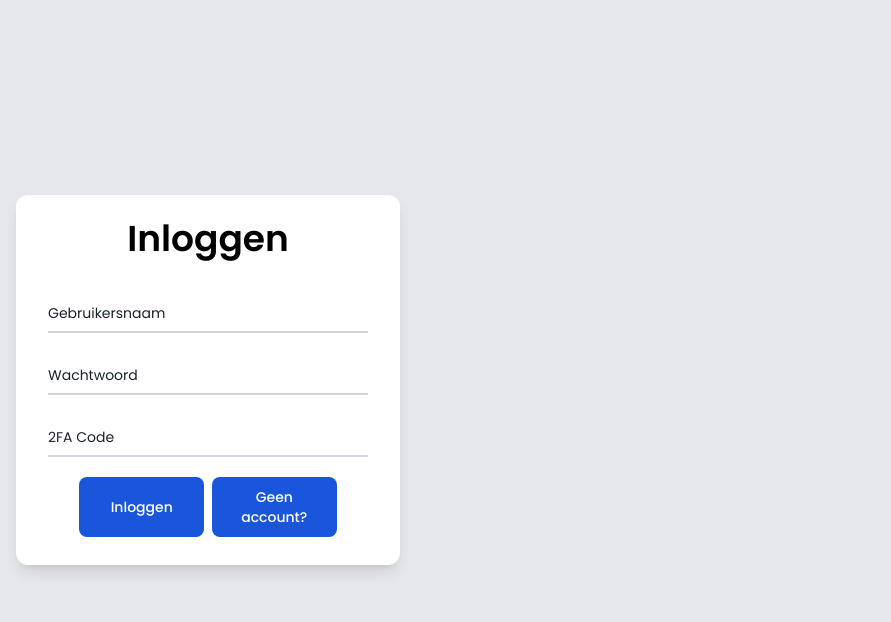
Test: Tests various pars of the register page › The page has working input validation
This screenshot has width=891, height=622.
Check: the heading "Inloggen" is shown, box [127,213,289,264]
Step 1. Click the button with id "show-signin" → point(275, 507), box [212,477,337,537]
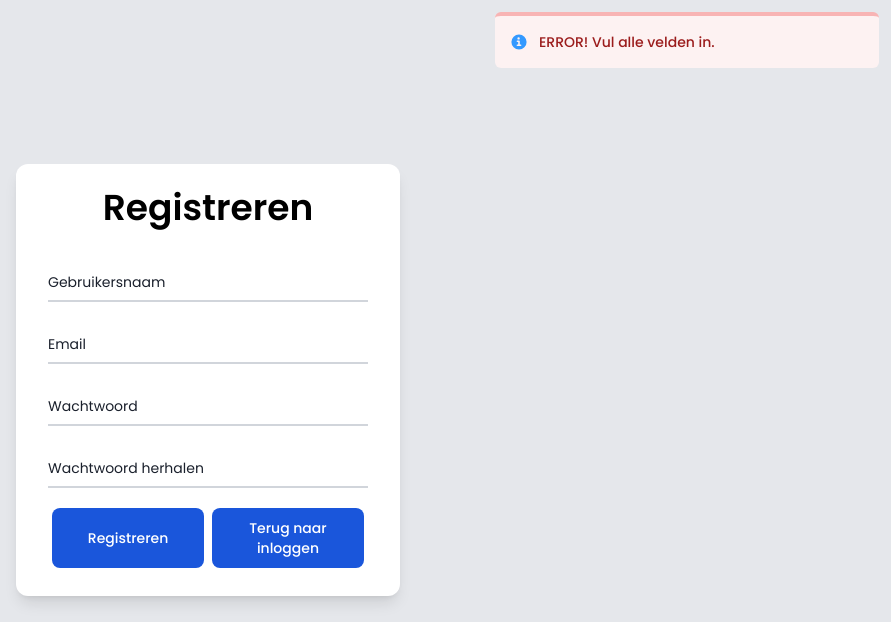
Check: the heading "Registreren" is shown, box [103,182,313,233]
Step 2. Type "test" into the field named "username" → point(208, 281), box [48,260,368,302]
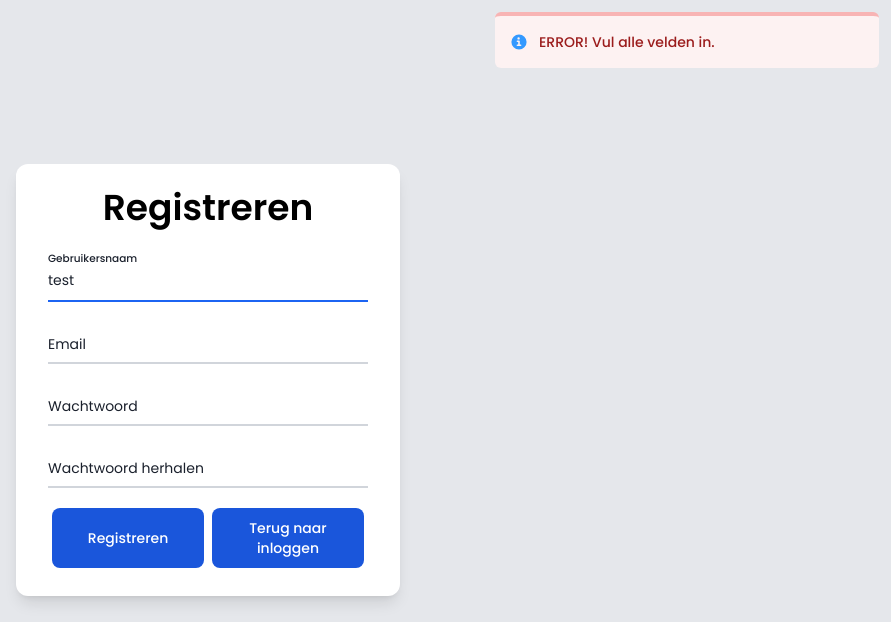
Step 3. Type "test" into the field named "email" → point(208, 343), box [48,322,368,364]
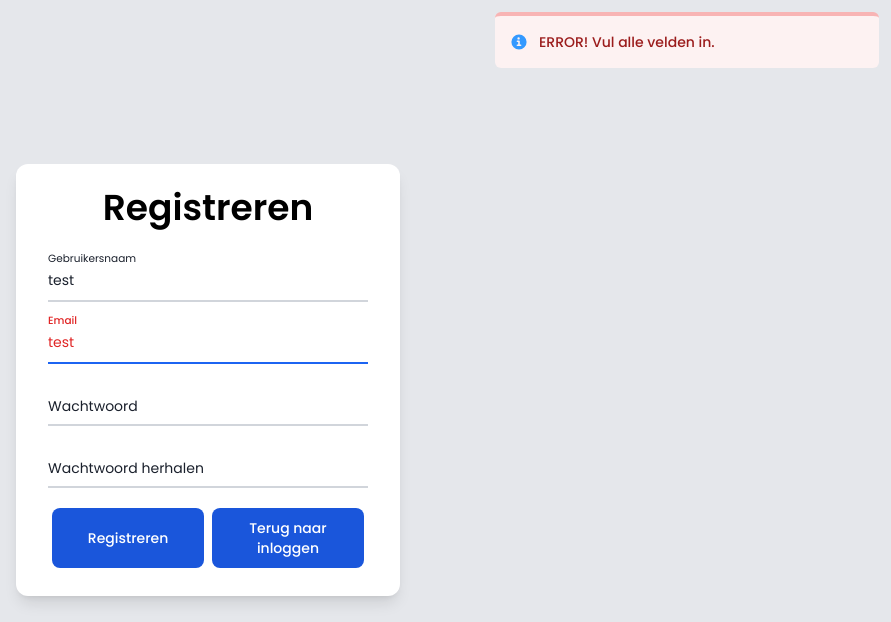
Step 4. Type "test" into the password field named "password" → point(208, 405), box [48,384,368,426]
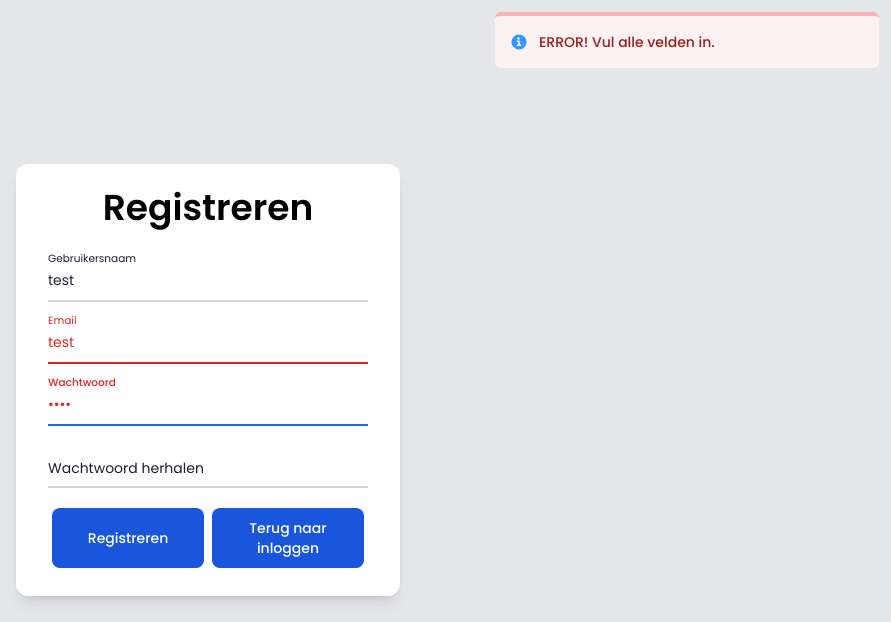
Step 5. Type "test" into the password field named "password_repeat" → point(208, 467), box [48,446,368,488]
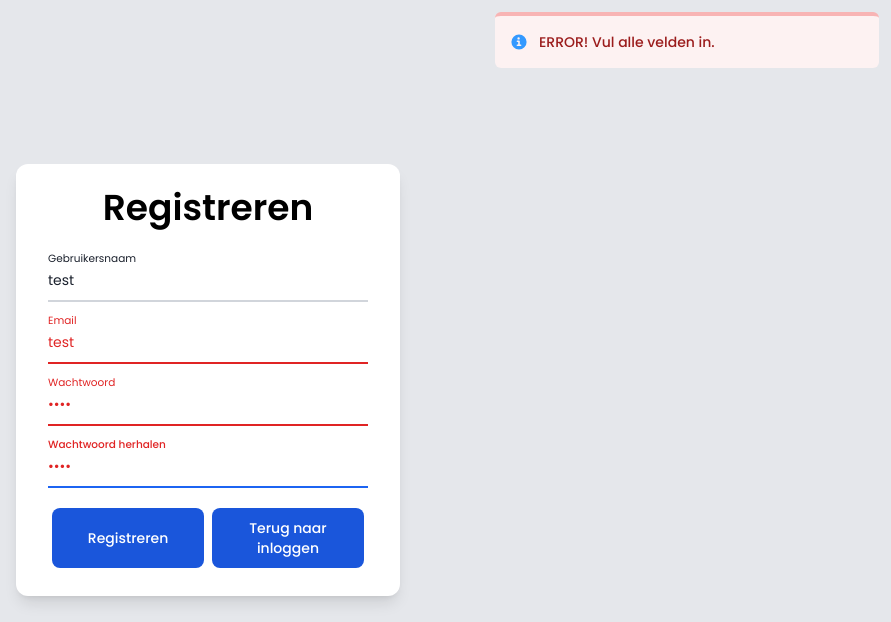
Step 6. Click the button with id "form-submit" → point(128, 538), box [52,508,204,568]
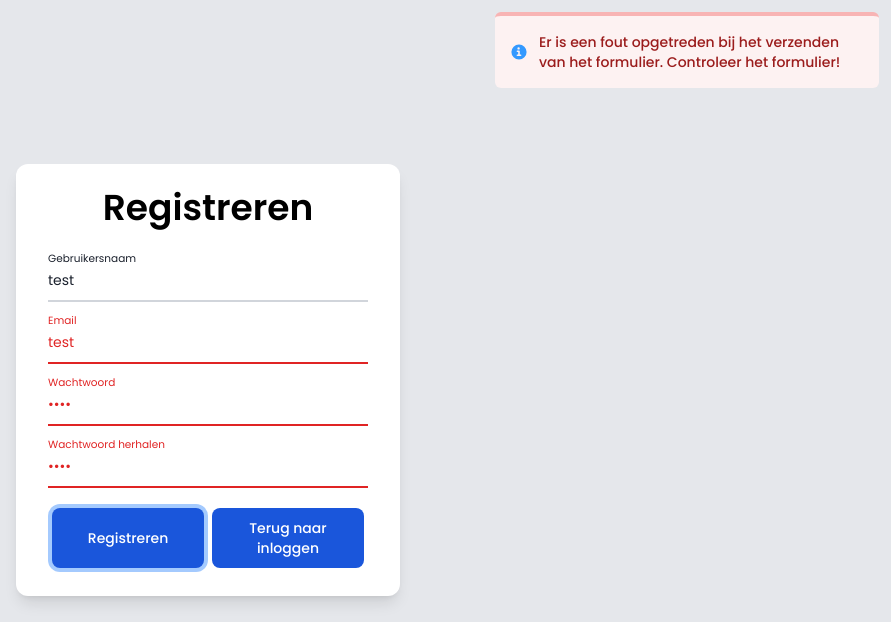
Check: the text "Er is een fout opgetreden bij het verzenden van het formulier. Controleer het formulier!" is shown, box [539,32,840,72]
